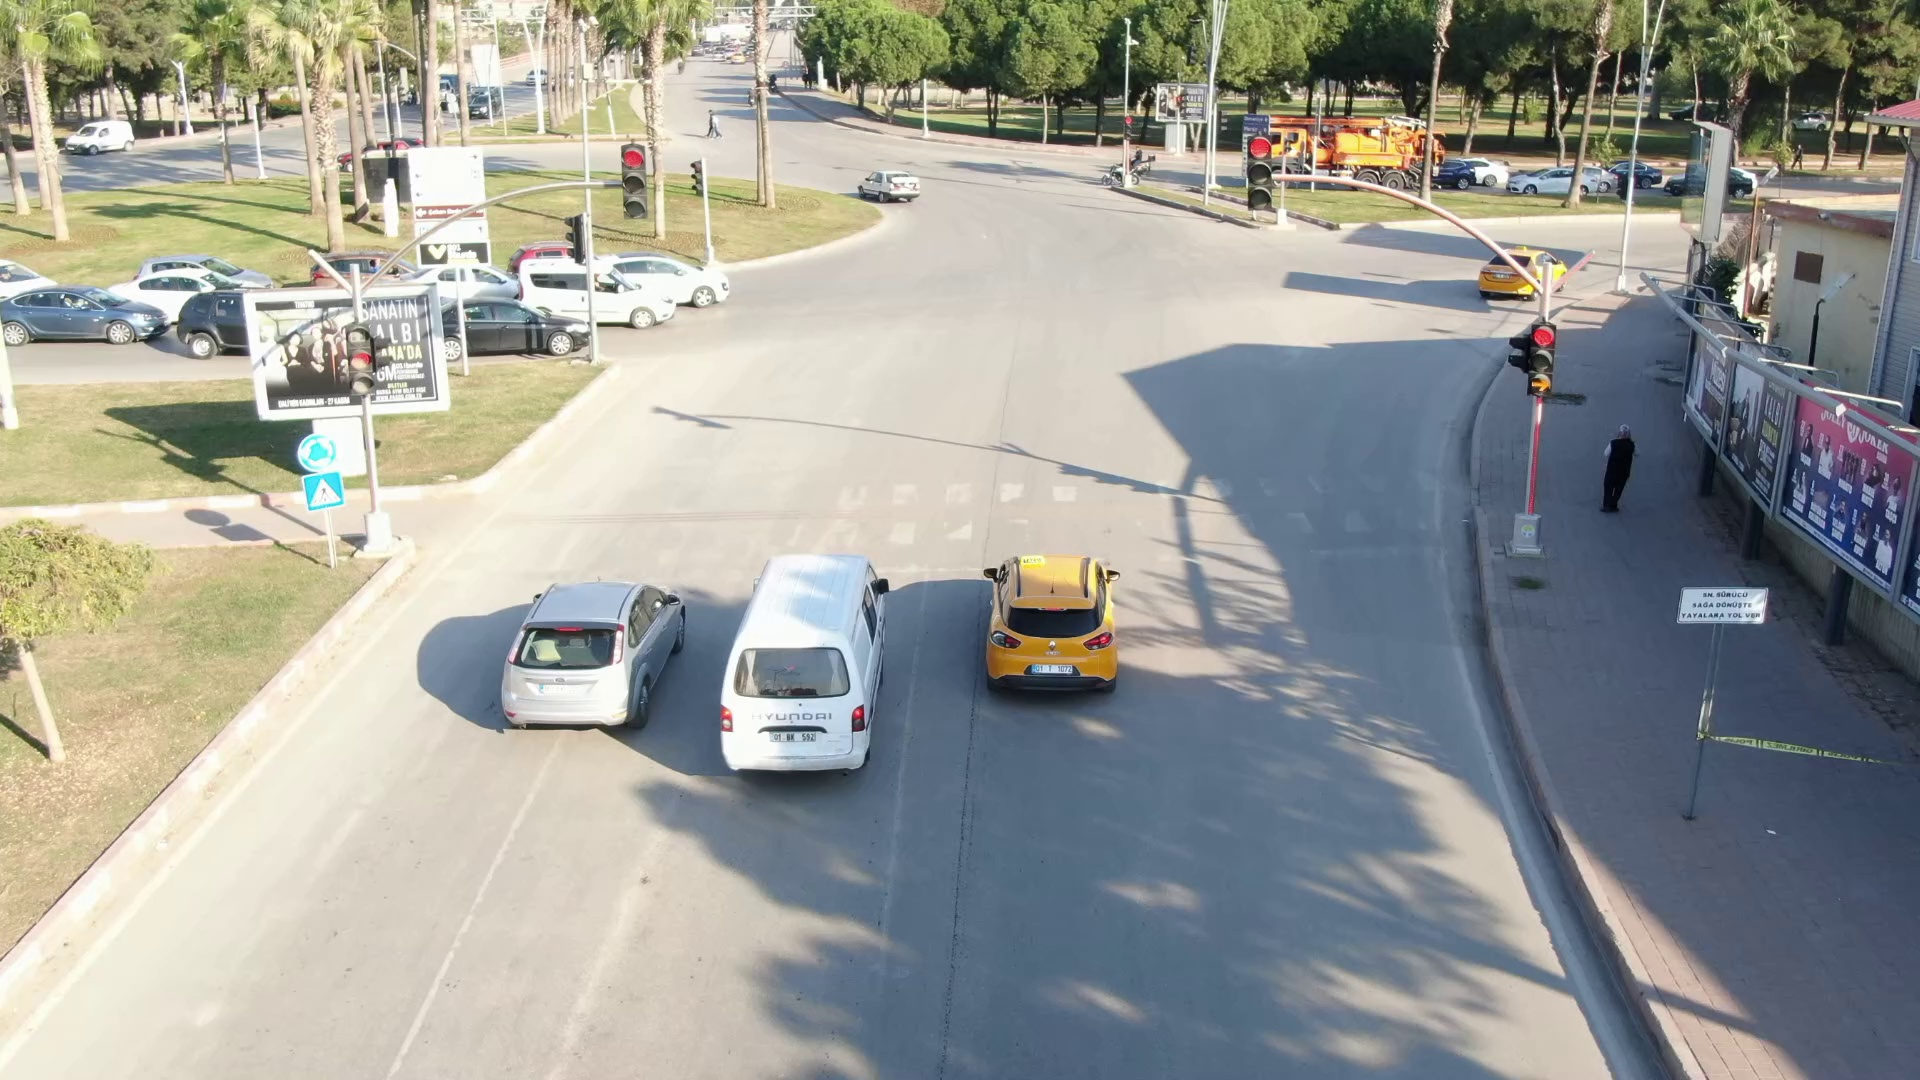car: (715, 553, 896, 788), (486, 565, 686, 751), (974, 549, 1125, 690), (510, 257, 672, 329), (439, 294, 600, 355), (578, 241, 727, 306), (1468, 245, 1580, 302), (861, 165, 923, 200)
person: (1602, 423, 1643, 523)
